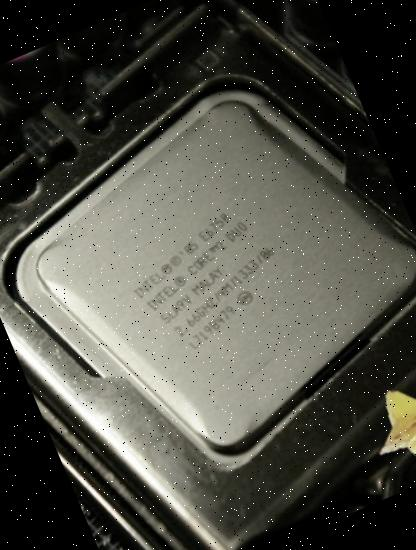Carambula: (358, 366, 416, 481)
